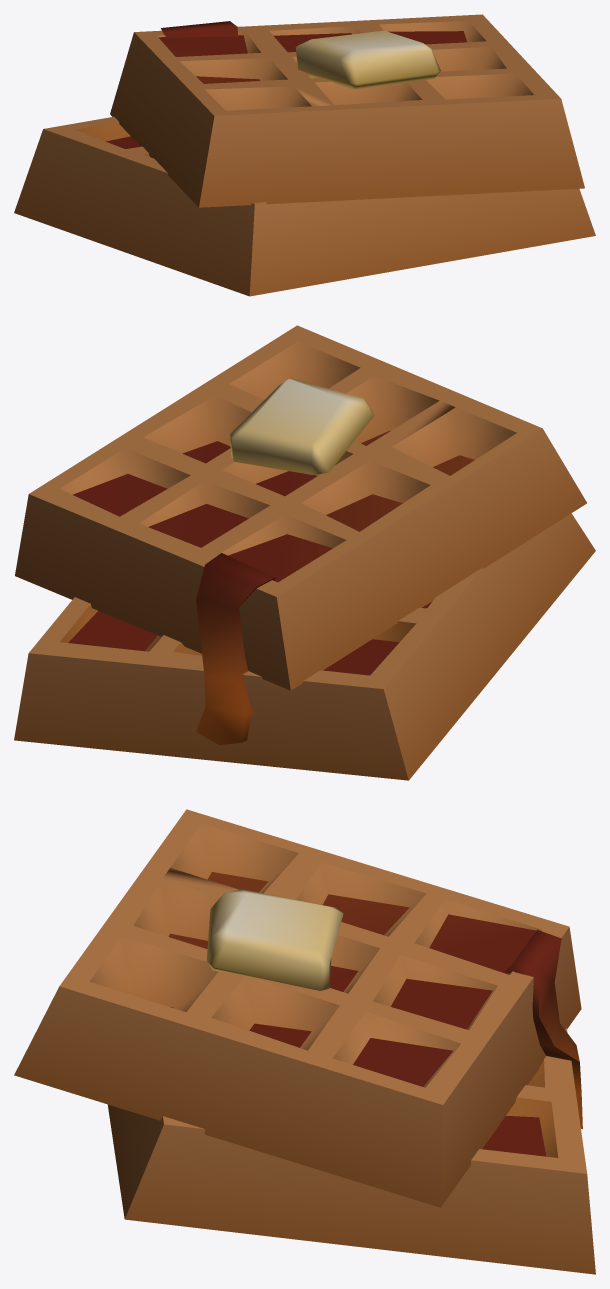
The model's file is hat_waffles.glb.
3 renders of one model, top to bottom at view 1: azimuth 30°, elevation 25°; view 2: azimuth 150°, elevation 25°; view 3: azimuth 270°, elevation 25°, orthographic. The views are drawn at different scales.
Parts seen in each view (by area): view 1: hat_waffles; view 2: hat_waffles; view 3: hat_waffles.
Boxes of the visible parts, bbox=[...] form: hat_waffles: bbox=[14, 14, 595, 296]; hat_waffles: bbox=[14, 325, 595, 780]; hat_waffles: bbox=[14, 809, 595, 1274].
Bounding box in the file's own units: 0.4158 × 0.2352 × 0.4261.
